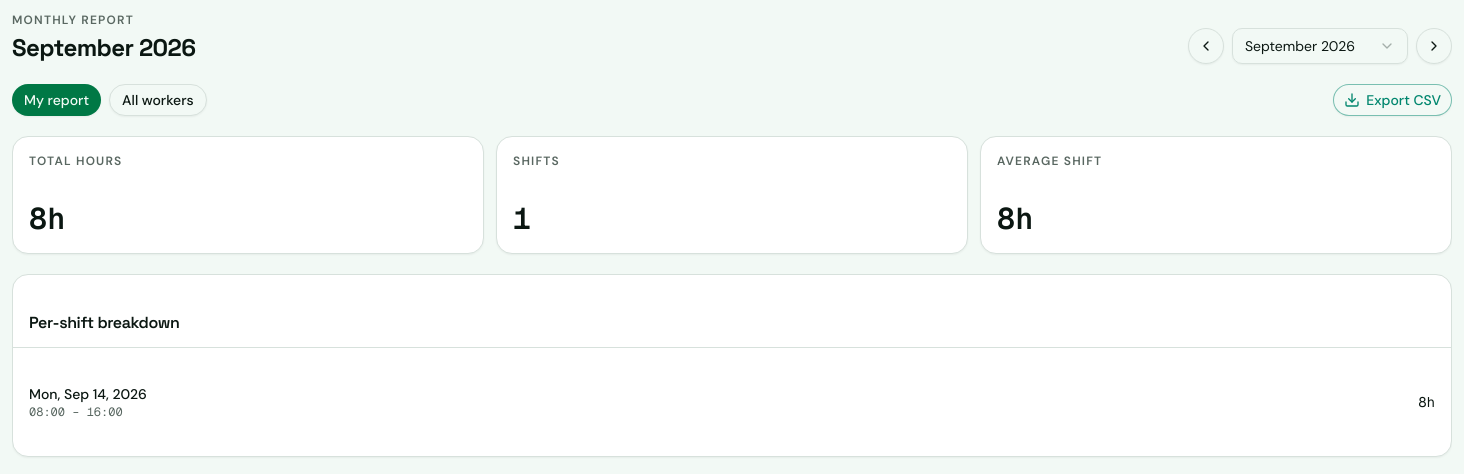
Test: MonthlyReport › lets the owner switch to the all-workers report
The image size is (1464, 474).
Click the button with test id "reports.all_tab": coordinates (158, 100) [109,84,207,116]
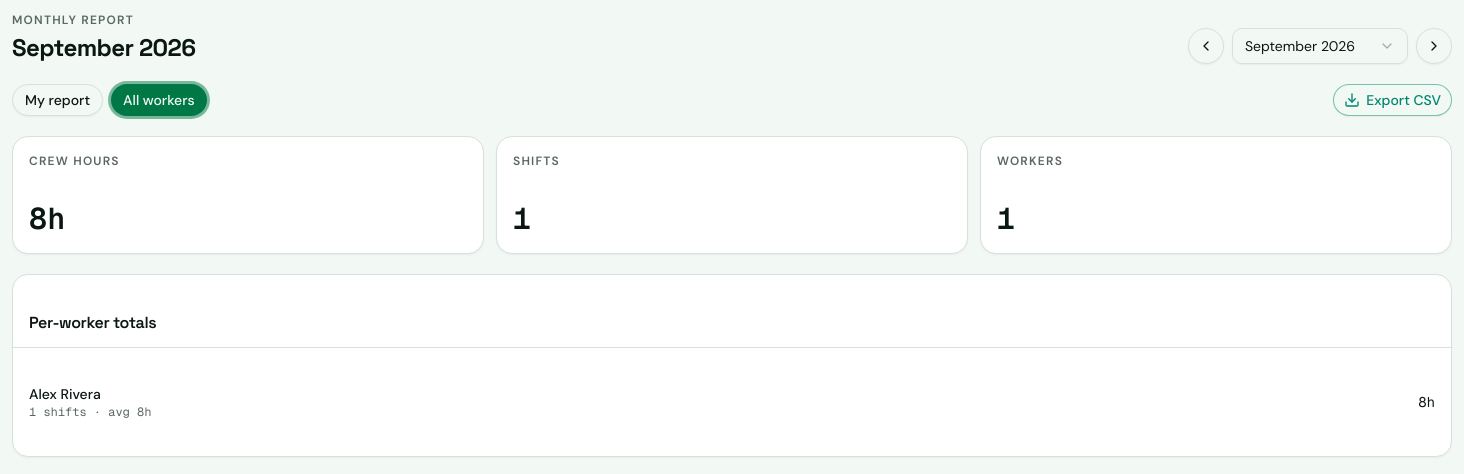
expect the element with test id "reports.all_total_hours" shows "8h": met, box [29,201,65,236]
expect the element with test id "reports.all_worker_count" shows "1": met, box [997,201,1015,236]
expect the text "Alex Rivera" is shown: met, box [29,385,101,403]
